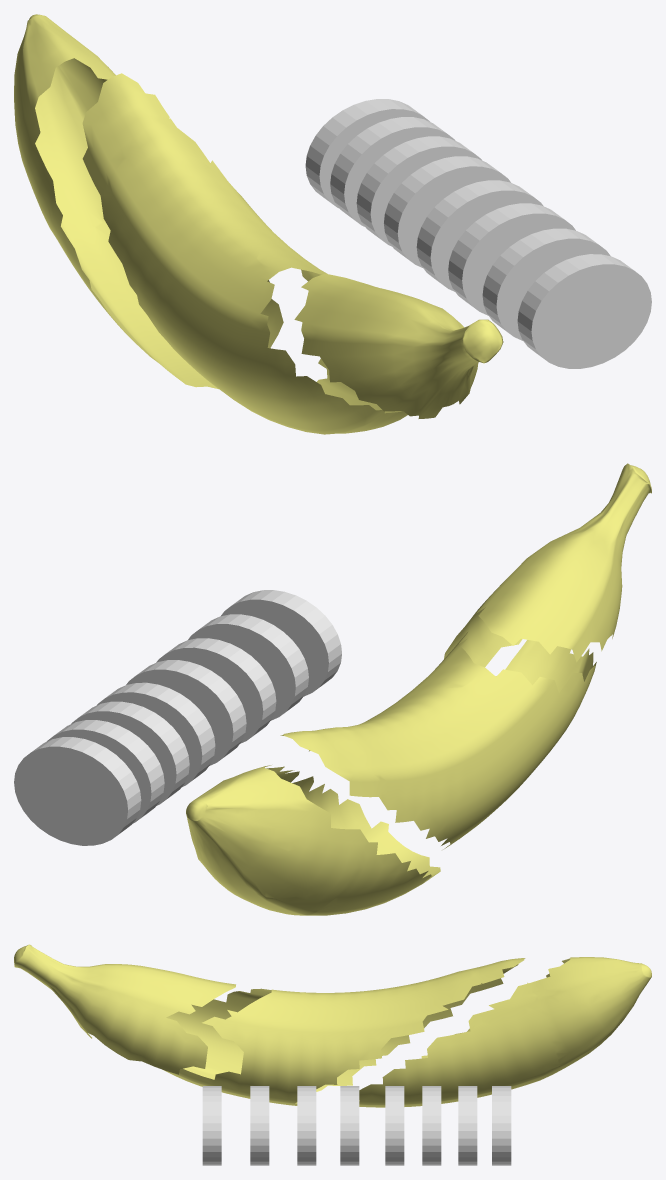
File: platanocortado.fbx
3 views of the same model, one above another, from view 1: azimuth 30°, elevation 25°; view 2: azimuth 150°, elevation 25°; view 3: azimuth 270°, elevation 25° (orthographic). The views are drawn at different scales.
Parts seen in each view (by area): view 1: Box03.002, Box03.004, Box03.001, Cylinder, Cylinder.002, Cylinder.003, Cylinder.005, Cylinder.004, Cylinder.006, Cylinder.007, Cylinder.008; view 2: Box03.002, Box03.004, Box03.001, Cylinder.008, Cylinder, Cylinder.002, Cylinder.004, Cylinder.003, Cylinder.005, Cylinder.006, Cylinder.007; view 3: Box03.002, Box03.004, Box03.001, Cylinder, Cylinder.002, Cylinder.003, Cylinder.004, Cylinder.005, Cylinder.006, Cylinder.007, Cylinder.008.
Boxes of the visible parts, <box> form: Box03.002: <box>82,73,407,434</box>; Box03.004: <box>14,14,283,389</box>; Box03.001: <box>294,273,503,418</box>; Cylinder: <box>517,254,651,368</box>; Cylinder.002: <box>482,228,610,340</box>; Cylinder.003: <box>448,203,575,315</box>; Cylinder.005: <box>384,156,510,267</box>; Cylinder.004: <box>416,180,543,291</box>; Cylinder.006: <box>356,136,481,246</box>; Cylinder.007: <box>330,117,455,226</box>; Cylinder.008: <box>305,99,429,208</box>; Box03.002: <box>280,632,596,849</box>; Box03.004: <box>186,765,440,915</box>; Box03.001: <box>444,463,651,667</box>; Cylinder.008: <box>14,737,141,845</box>; Cylinder: <box>221,590,341,696</box>; Cylinder.002: <box>188,614,308,720</box>; Cylinder.004: <box>126,660,246,765</box>; Cylinder.003: <box>156,638,276,743</box>; Cylinder.005: <box>96,682,215,786</box>; Cylinder.006: <box>71,701,189,805</box>; Cylinder.007: <box>46,720,164,823</box>; Box03.002: <box>163,958,525,1105</box>; Box03.004: <box>359,957,651,1107</box>; Box03.001: <box>14,944,235,1074</box>; Cylinder: <box>202,1086,221,1165</box>; Cylinder.002: <box>250,1086,269,1165</box>; Cylinder.003: <box>297,1086,316,1165</box>; Cylinder.004: <box>340,1086,359,1165</box>; Cylinder.005: <box>385,1086,404,1165</box>; Cylinder.006: <box>422,1086,441,1165</box>; Cylinder.007: <box>458,1086,477,1165</box>; Cylinder.008: <box>492,1086,511,1165</box>.
Bounding box in the file's own units: 62.71 × 37.94 × 134.
